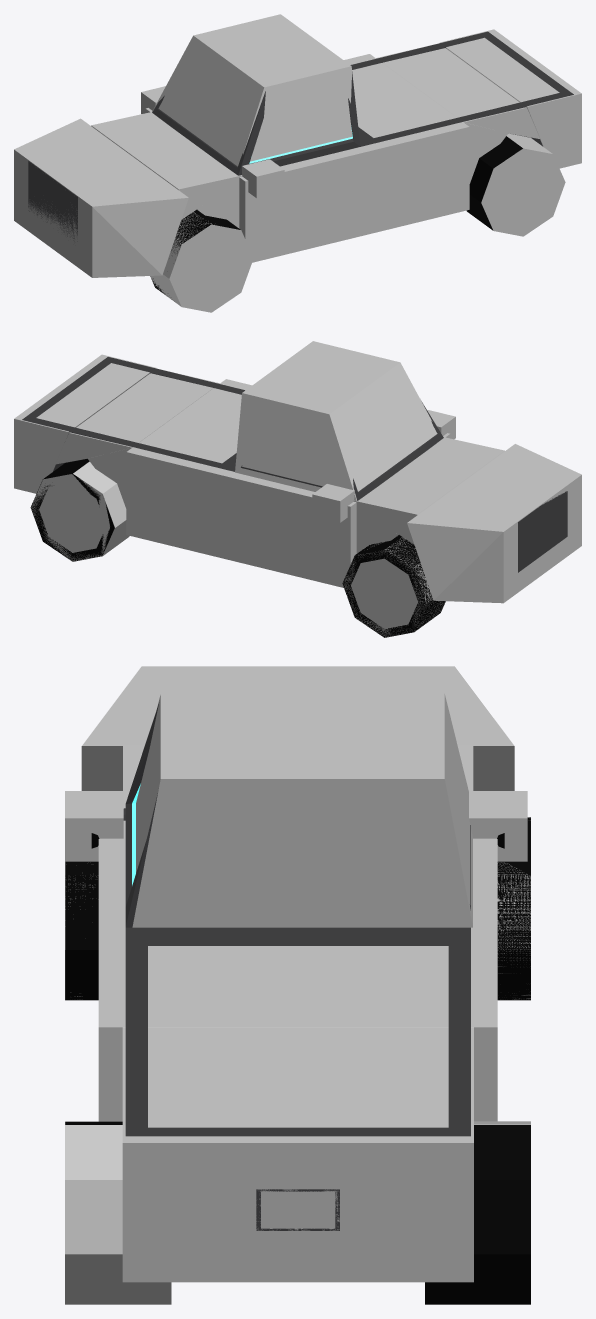
The model's file is SM_Car_09.fbx.
3 views of the same model, one above another, from view 1: azimuth 30°, elevation 25°; view 2: azimuth 150°, elevation 25°; view 3: azimuth 270°, elevation 25° (orthographic). The views are drawn at different scales.
Parts seen in each view (by area): view 1: SM_Car_09_ConvexHulls, SM_Car_09; view 2: SM_Car_09_ConvexHulls, SM_Car_09; view 3: SM_Car_09_ConvexHulls, SM_Car_09.
Part boxes in pixels (x1=…): SM_Car_09_ConvexHulls: x1=14, y1=14, x2=581, y2=312; SM_Car_09: x1=28, y1=31, x2=573, y2=299; SM_Car_09_ConvexHulls: x1=14, y1=341, x2=581, y2=637; SM_Car_09: x1=22, y1=357, x2=567, y2=637; SM_Car_09_ConvexHulls: x1=65, y1=666, x2=530, y2=1304; SM_Car_09: x1=65, y1=702, x2=530, y2=1304.
Bounding box in the file's own units: 517 × 215 × 193.
